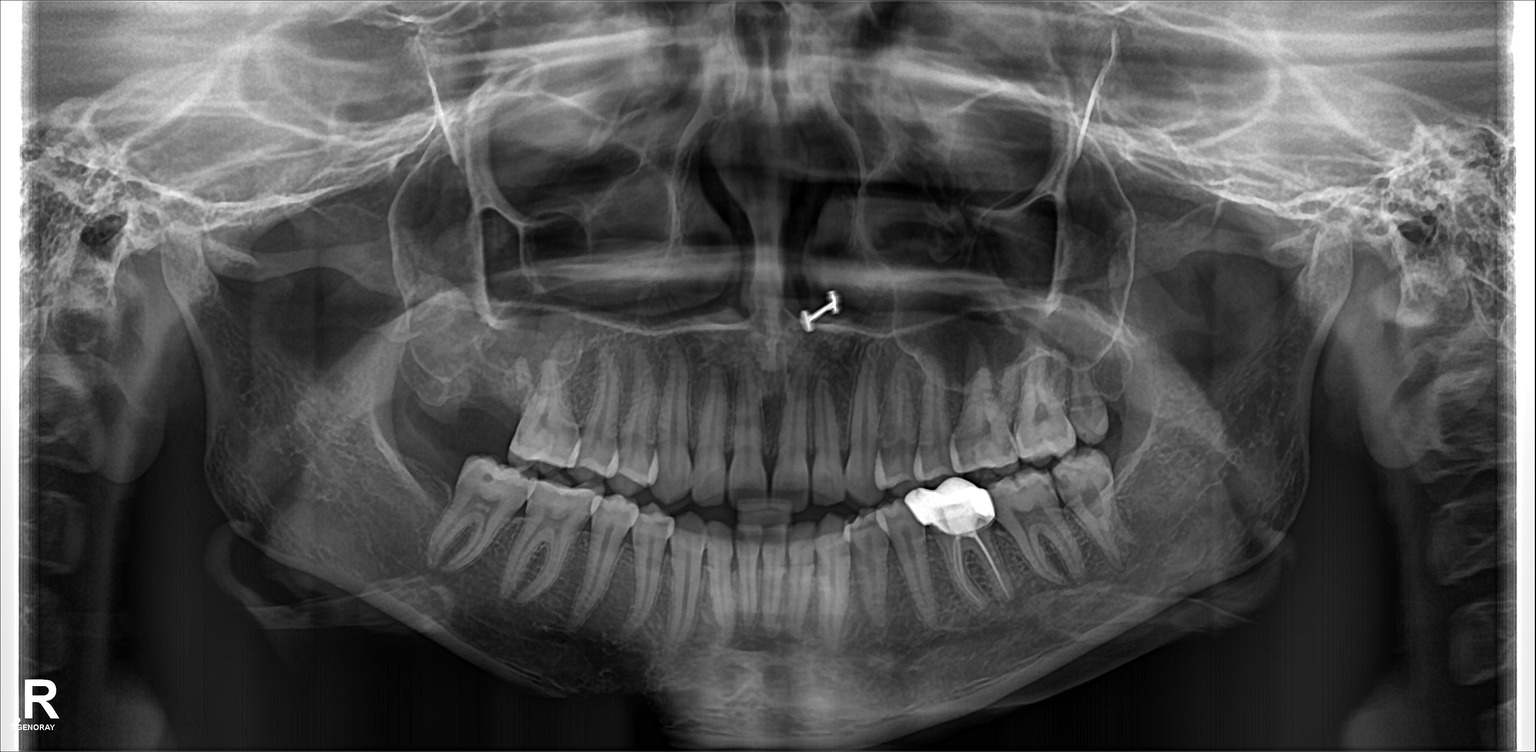Endodontically Treated Tooth: (922, 486, 998, 615)
Missing Tooth: (458, 342, 499, 436), (415, 331, 454, 428), (406, 441, 448, 523)
